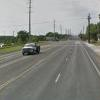Car: (19, 39, 43, 57)
